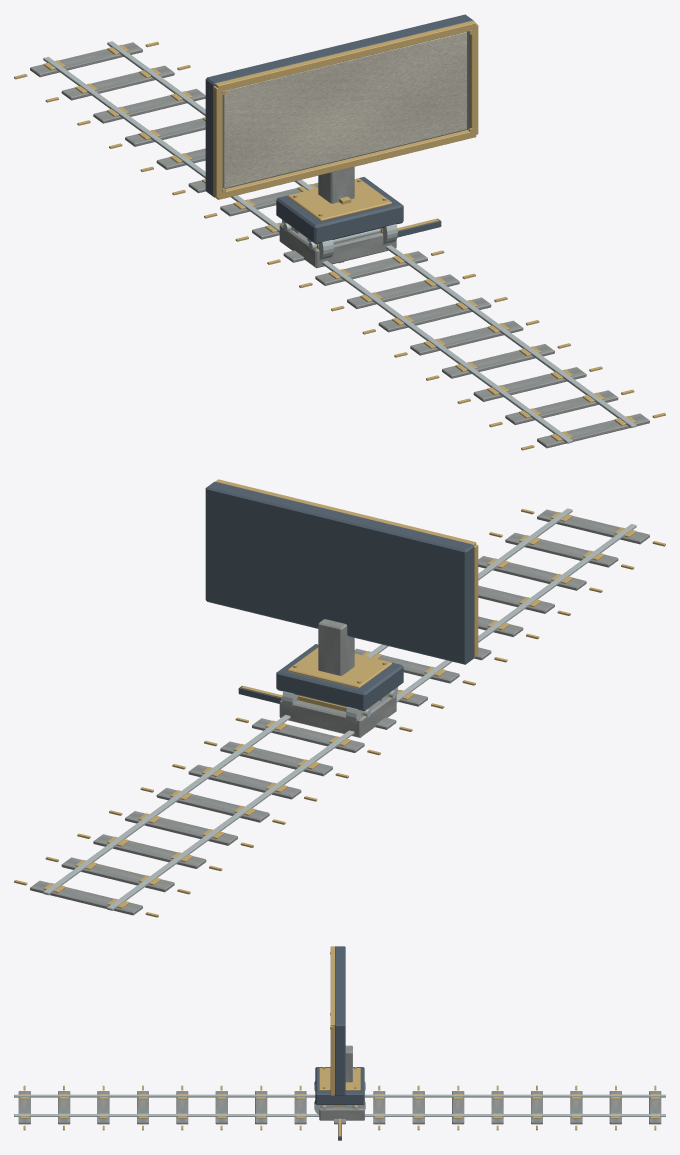
The model's file is panel-workshop-v01.glb.
The picture shows the model from 3 angles, top to bottom: view 1: azimuth 30°, elevation 25°; view 2: azimuth 150°, elevation 25°; view 3: azimuth 270°, elevation 25°; orthographic projection. The views are drawn at different scales.
Visible parts, largest first — view 1: Plaque pale inset.001, Grounded stone sleeper.017, Plaque corner rivet.004, Continuous steel rail.002, Equal observation notch.034, Plaque backing.001, Trolley iron frame.001, Grounded plaque foot.001, Lower optical stem support.001, Rail roller.004; view 2: Plaque backing.001, Grounded stone sleeper.017, Continuous steel rail.002, Grounded plaque foot.001, Equal observation notch.034, Trolley iron frame.001, Plaque corner rivet.004, Lower optical stem support.001; view 3: Grounded stone sleeper.017, Continuous steel rail.002, Equal observation notch.034, Plaque backing.001, Trolley iron frame.001, Grounded plaque foot.001, Plaque corner rivet.004, Lower optical stem support.001.
Boxes of the visible parts, x1=… form: Plaque pale inset.001: x1=223, y1=32, x2=466, y2=188; Grounded stone sleeper.017: x1=30, y1=42, x2=649, y2=448; Plaque corner rivet.004: x1=213, y1=20, x2=478, y2=199; Continuous steel rail.002: x1=43, y1=41, x2=636, y2=443; Equal observation notch.034: x1=14, y1=41, x2=665, y2=450; Plaque backing.001: x1=205, y1=14, x2=473, y2=197; Trolley iron frame.001: x1=276, y1=177, x2=403, y2=243; Grounded plaque foot.001: x1=279, y1=167, x2=396, y2=268; Lower optical stem support.001: x1=288, y1=178, x2=391, y2=248; Rail roller.004: x1=282, y1=220, x2=397, y2=260; Plaque backing.001: x1=205, y1=481, x2=474, y2=664; Grounded stone sleeper.017: x1=30, y1=509, x2=649, y2=915; Continuous steel rail.002: x1=43, y1=508, x2=636, y2=910; Grounded plaque foot.001: x1=279, y1=619, x2=396, y2=737; Equal observation notch.034: x1=14, y1=509, x2=665, y2=917; Trolley iron frame.001: x1=276, y1=644, x2=403, y2=710; Plaque corner rivet.004: x1=215, y1=479, x2=478, y2=711; Lower optical stem support.001: x1=288, y1=647, x2=391, y2=715; Grounded stone sleeper.017: x1=18, y1=1091, x2=661, y2=1124; Continuous steel rail.002: x1=14, y1=1094, x2=665, y2=1116; Equal observation notch.034: x1=20, y1=1085, x2=659, y2=1130; Plaque backing.001: x1=334, y1=946, x2=345, y2=1095; Trolley iron frame.001: x1=315, y1=1067, x2=364, y2=1104; Grounded plaque foot.001: x1=319, y1=1045, x2=364, y2=1120; Plaque corner rivet.004: x1=330, y1=946, x2=345, y2=1106; Lower optical stem support.001: x1=319, y1=1067, x2=360, y2=1108.
Size of the model in its own units: 2.62 by 2.04 by 9.1.
5 materials, 2 textured.
